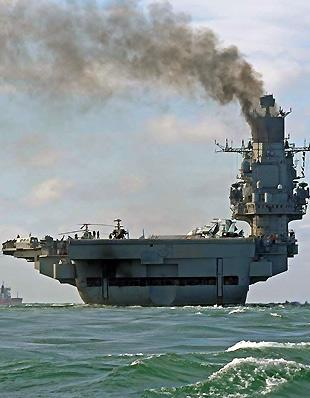smoke: (1, 1, 268, 115)
